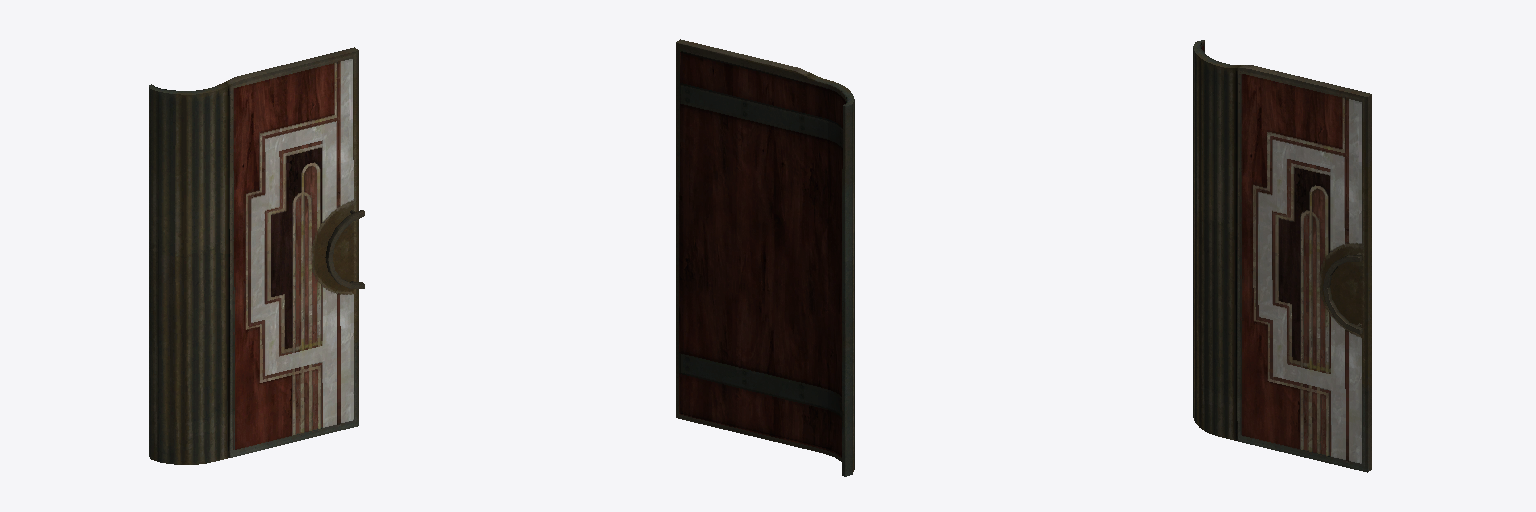
3 renders of one model, left to right at view 1: azimuth 30°, elevation 25°; view 2: azimuth 150°, elevation 25°; view 3: azimuth 330°, elevation 25°, orthographic.
Parts seen in each view (by area): view 1: ArmoireDoorLeft; view 2: ArmoireDoorLeft; view 3: ArmoireDoorLeft.
Boxes of the visible parts, <box> form: ArmoireDoorLeft: <box>149,47,364,464</box>; ArmoireDoorLeft: <box>676,39,854,476</box>; ArmoireDoorLeft: <box>1193,40,1371,472</box>.
Bounding box in the file's own units: 87.26 × 164 × 23.25.
Materials: 1 (1 with a texture image).